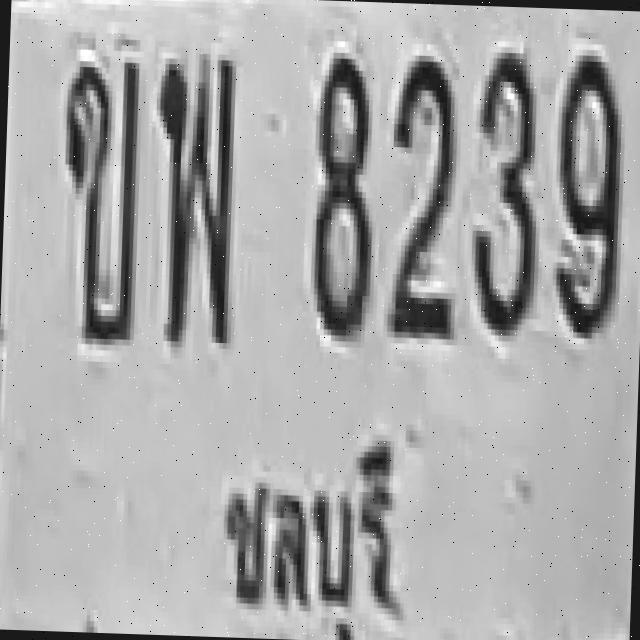11KhorKhai: (53, 51, 141, 342)
2: (384, 51, 462, 336)
3: (468, 46, 542, 337)
39PhorPan: (148, 49, 240, 346)
8: (308, 54, 378, 338)
9: (550, 48, 624, 339)
Chonburi: (195, 414, 417, 640)
